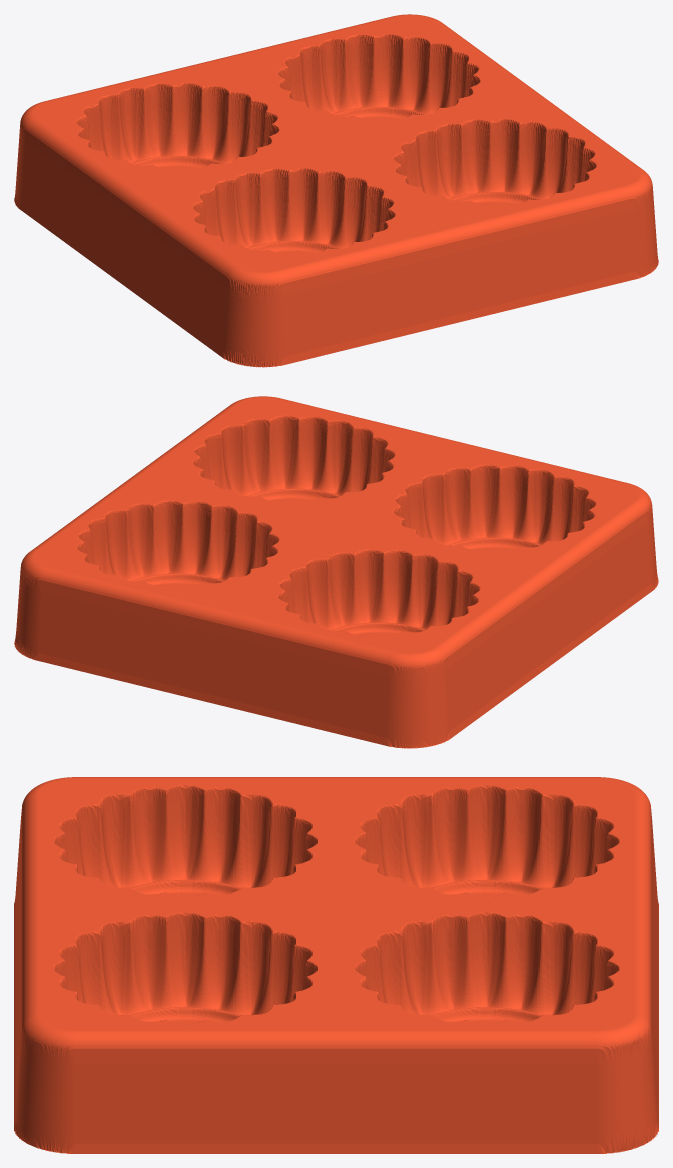
File: mold.glb
3 views of the same model, one above another, from view 1: azimuth 30°, elevation 25°; view 2: azimuth 150°, elevation 25°; view 3: azimuth 270°, elevation 25° (orthographic). The views are drawn at different scales.
Parts seen in each view (by area): view 1: geometry_0; view 2: geometry_0; view 3: geometry_0.
Boxes of the visible parts, box(x1,y1,x2,y2) form: geometry_0: box(14, 14, 658, 367); geometry_0: box(14, 396, 658, 748); geometry_0: box(14, 777, 658, 1153).
Size of the model in its own units: 0.0942 by 0.0182 by 0.0942.
